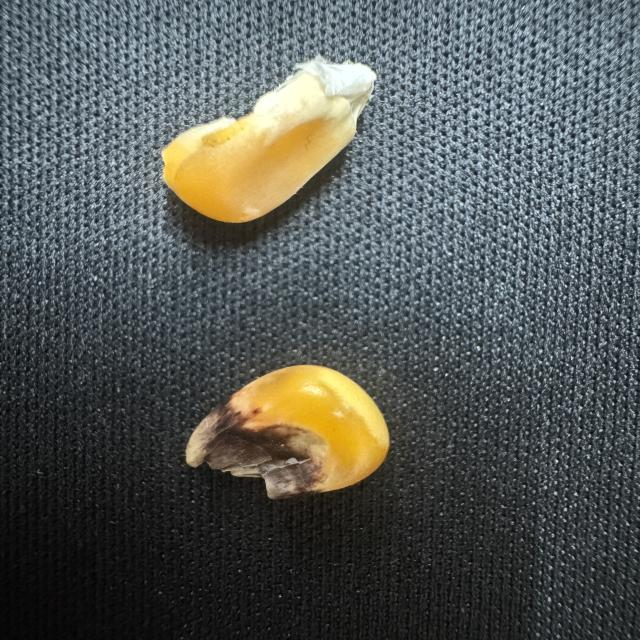Bad-Seed: (156, 52, 378, 226), (178, 360, 395, 501)
